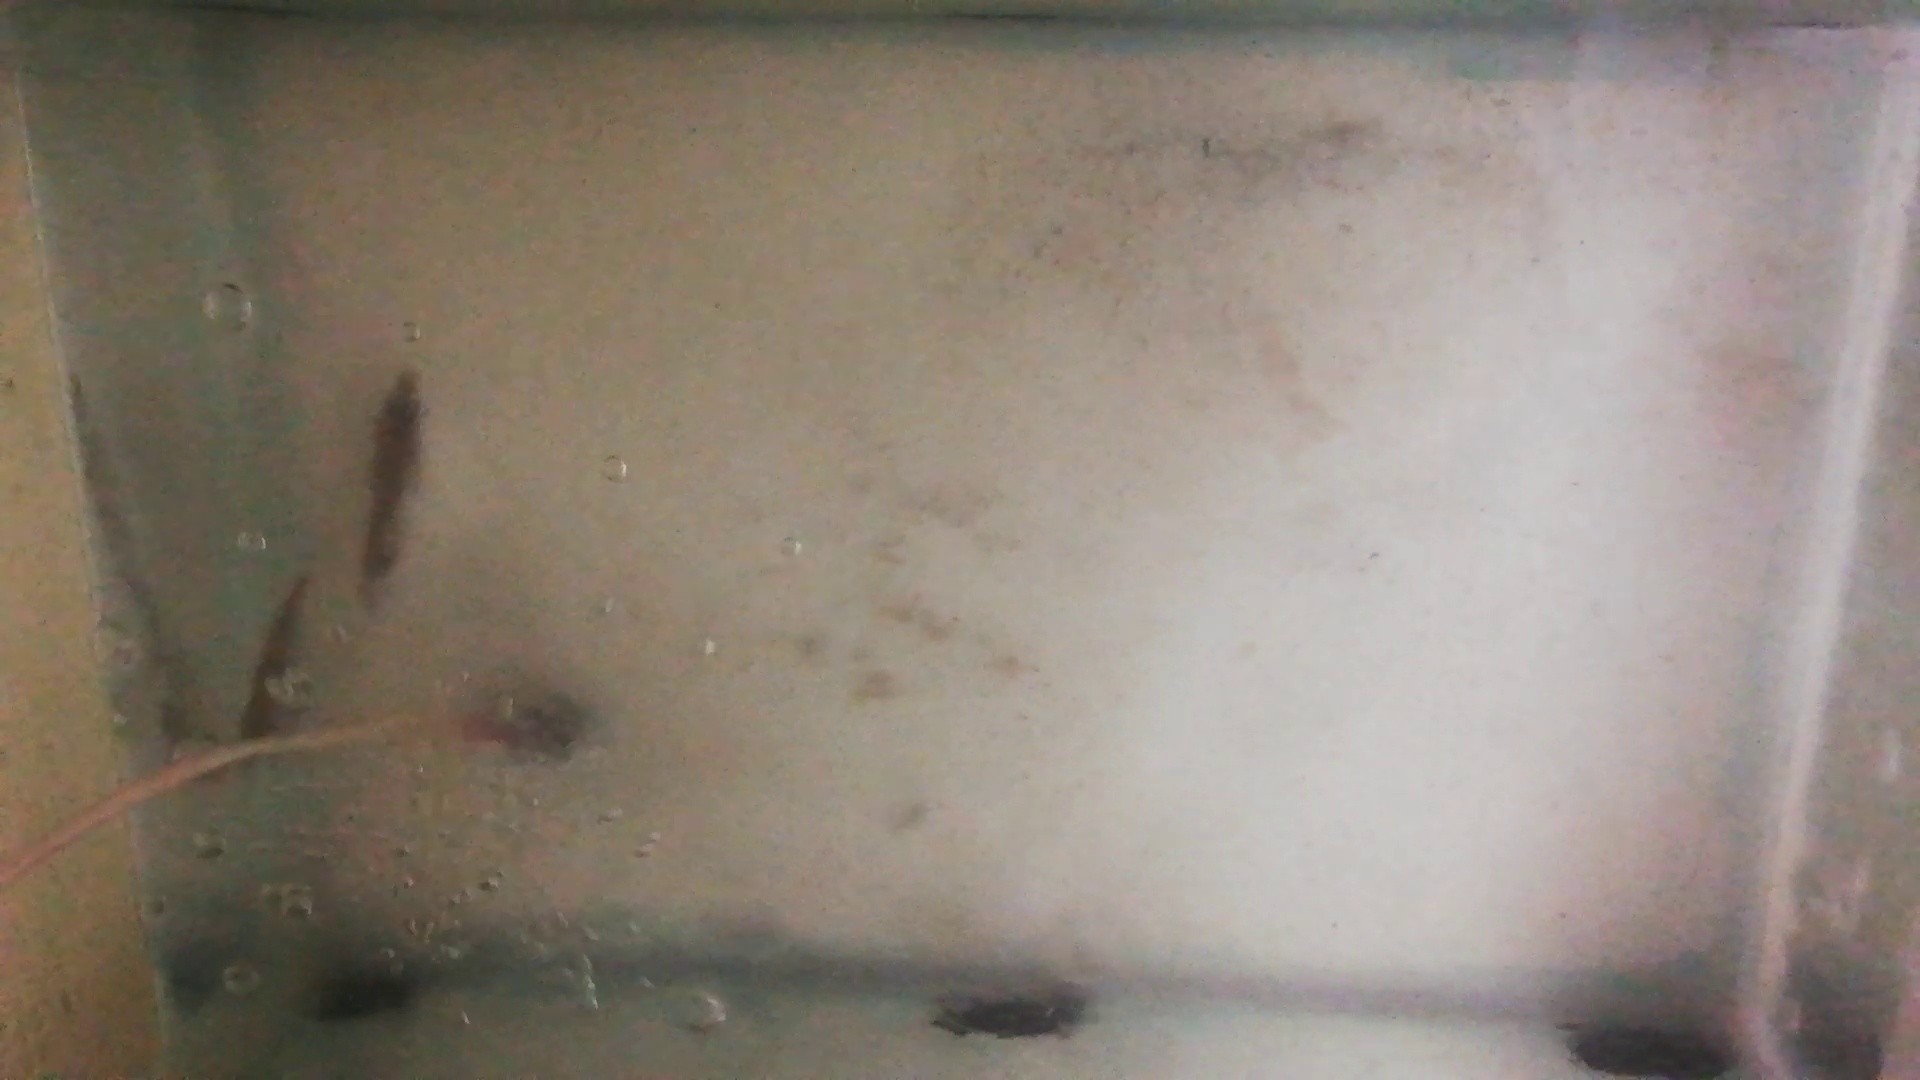fish: (363, 371, 431, 589), (233, 570, 311, 753)
